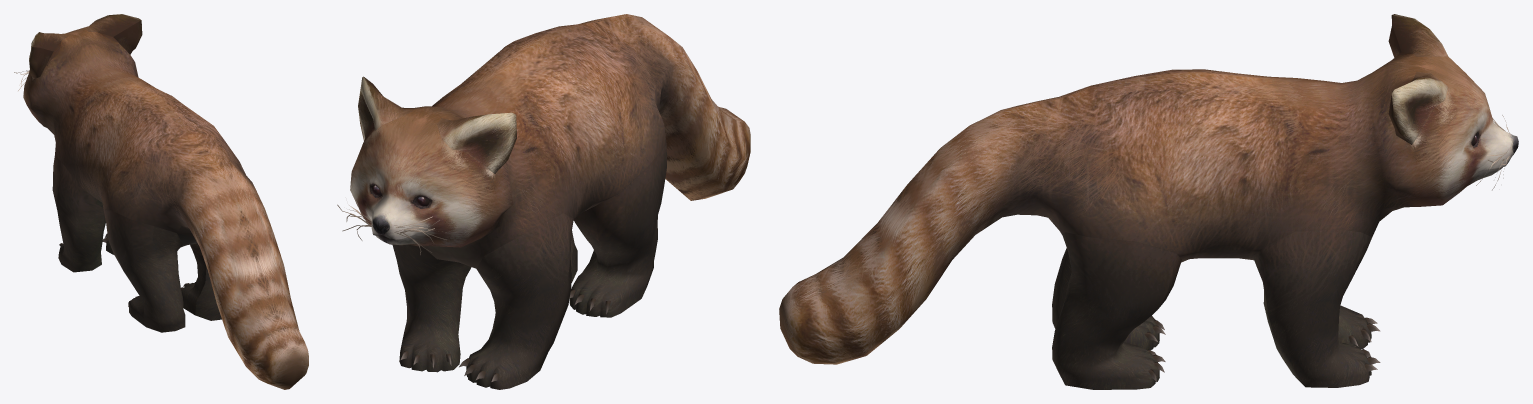
The model's file is red_panda_model.fbx.
3 views of the same model, side by side, from view 1: azimuth 30°, elevation 25°; view 2: azimuth 150°, elevation 25°; view 3: azimuth 270°, elevation 25° (orthographic). The views are drawn at different scales.
Parts seen in each view (by area): view 1: Red Panda.002; view 2: Red Panda.002; view 3: Red Panda.002.
Part boxes in pixels (bbox=[...]): Red Panda.002: bbox=[14, 14, 308, 389]; Red Panda.002: bbox=[337, 14, 750, 389]; Red Panda.002: bbox=[779, 14, 1518, 389].
Bounding box in the file's own units: 127 × 206 × 438.
